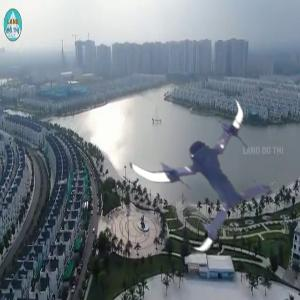drone: (135, 94, 280, 239)
